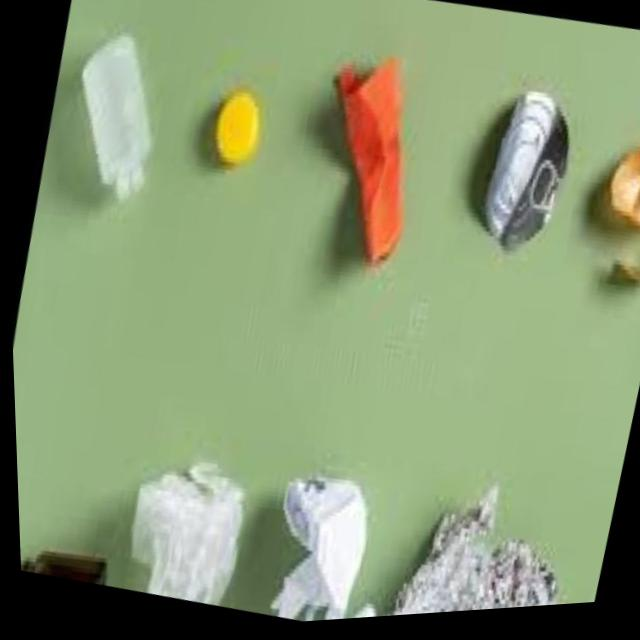clothes: (446, 79, 594, 303)
foam box: (15, 500, 115, 591)
food: (356, 459, 583, 622), (233, 442, 406, 628)
leaf: (30, 2, 192, 243), (99, 447, 260, 618), (186, 79, 273, 185), (549, 591, 592, 612)
trash: (275, 44, 461, 302)
wood: (546, 107, 640, 344)
